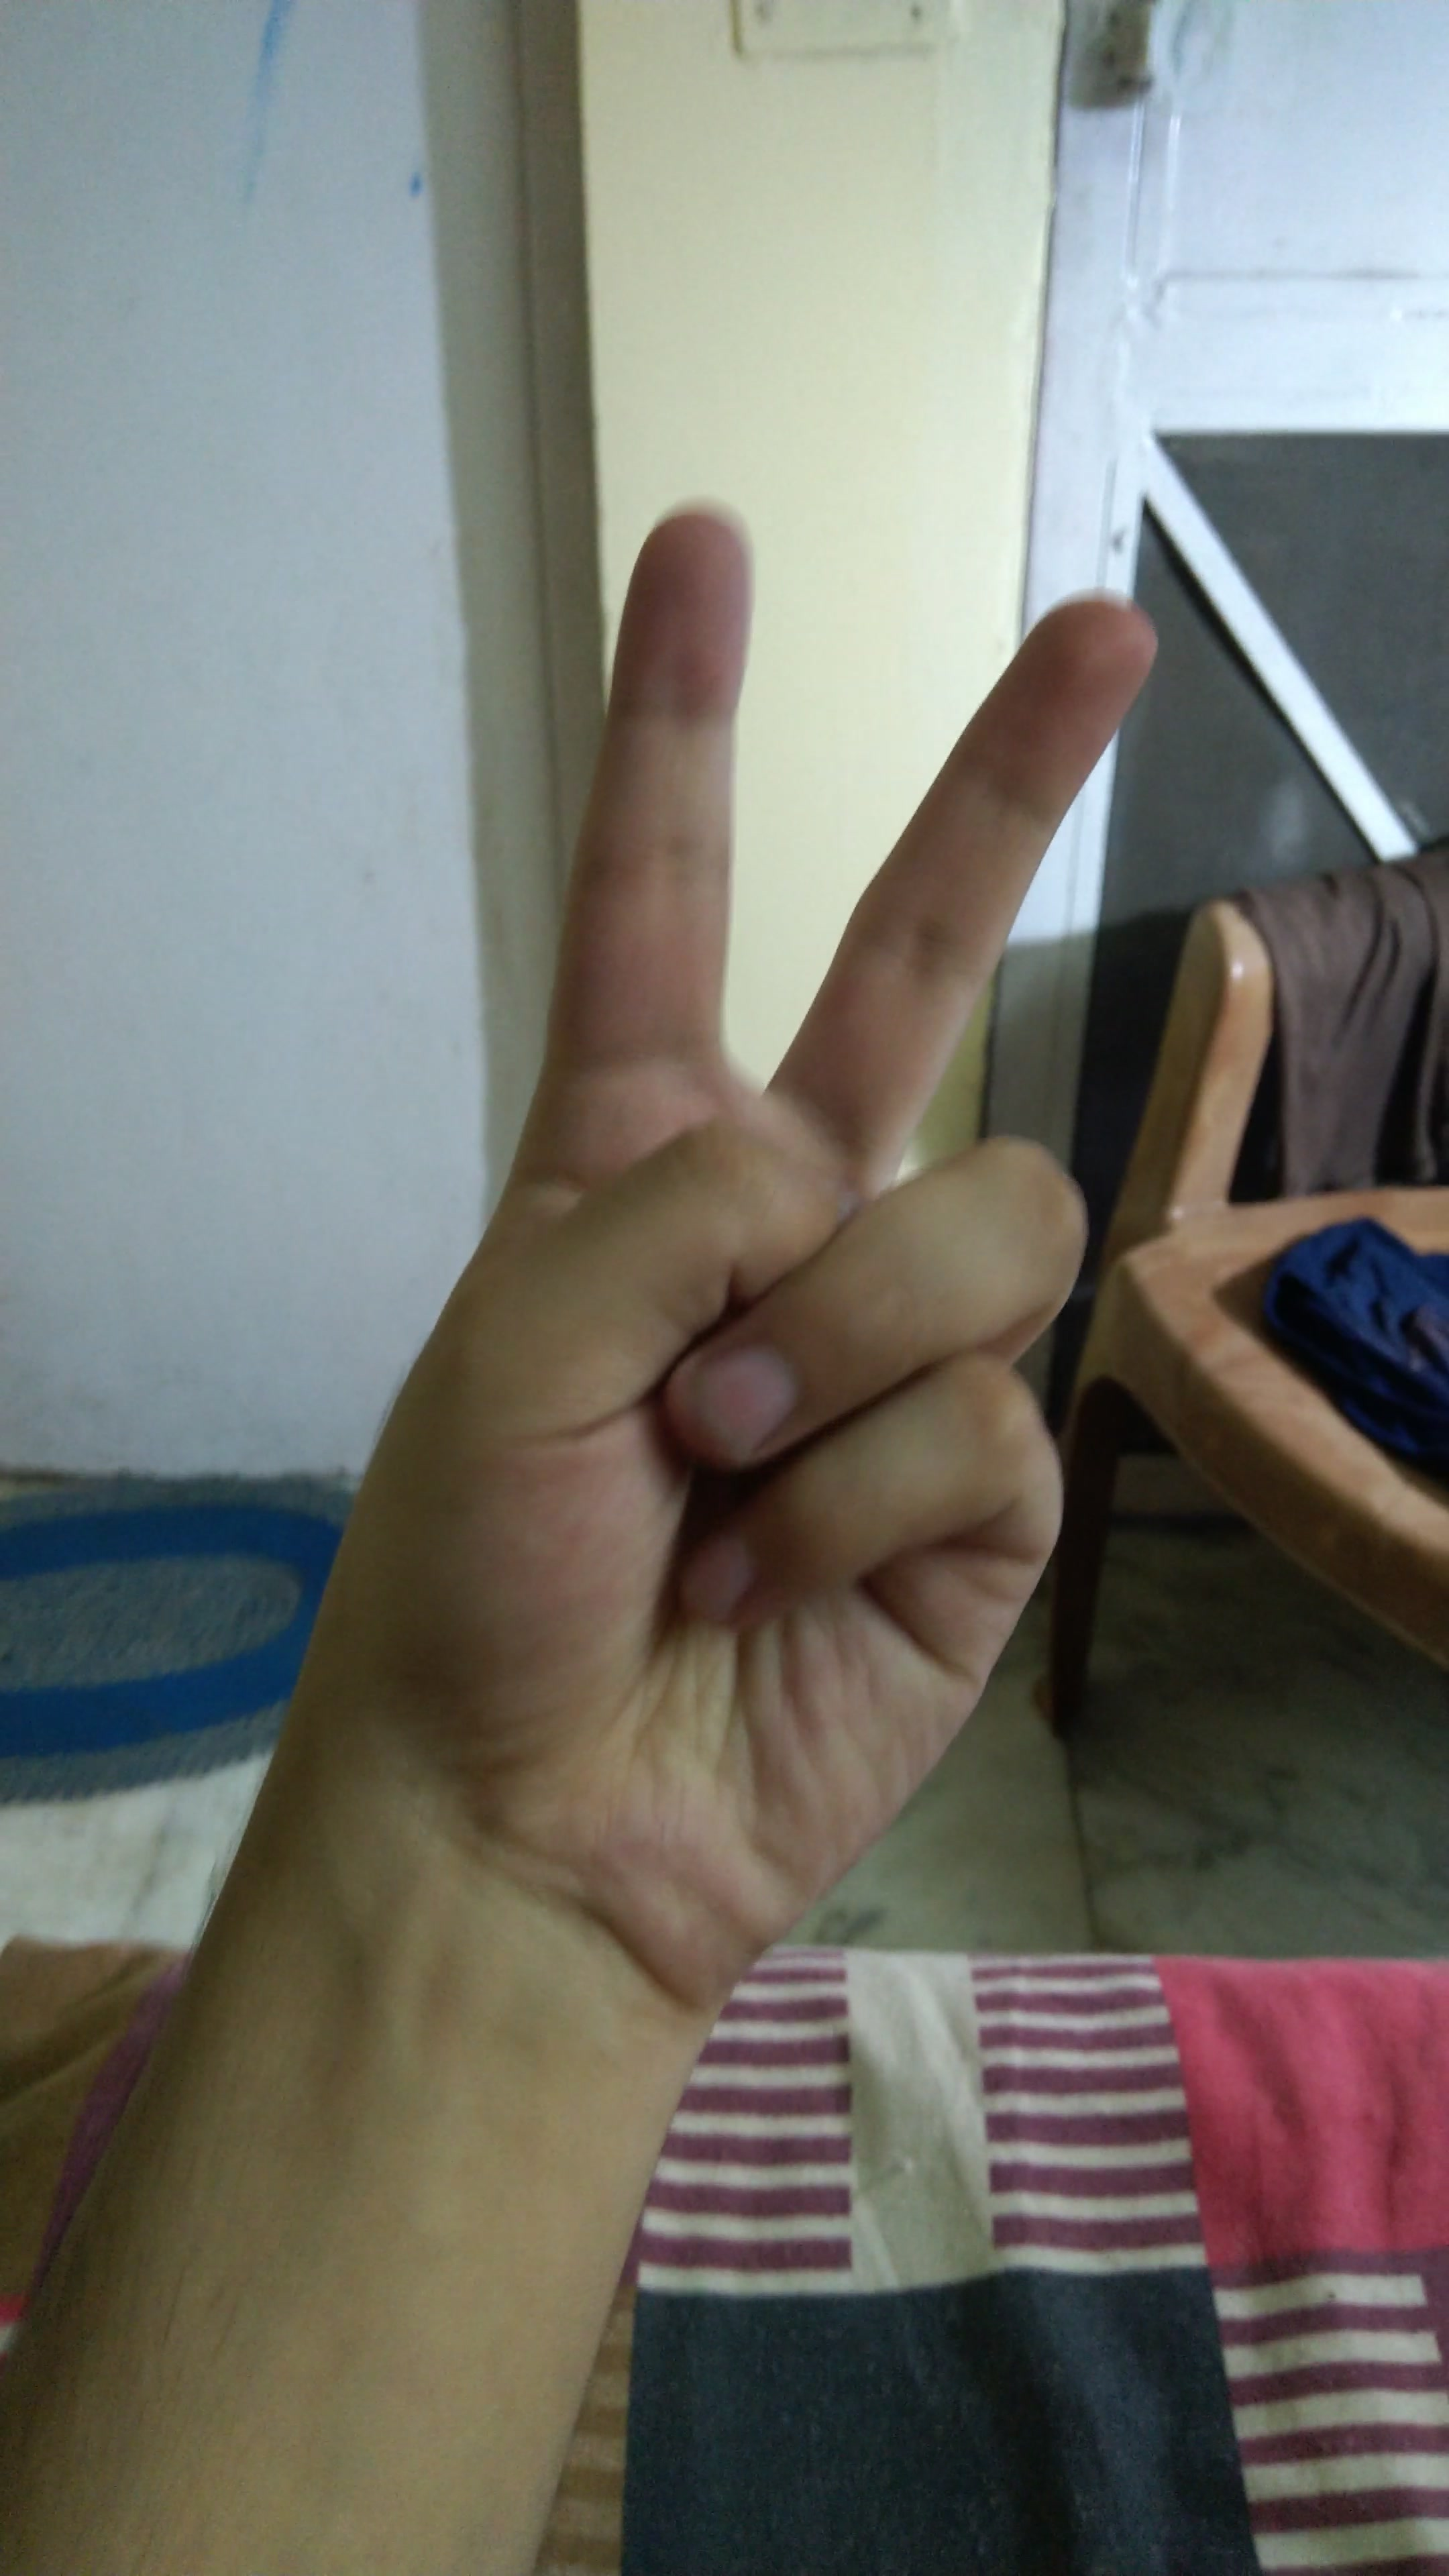hand: (205, 460, 1173, 1957)
